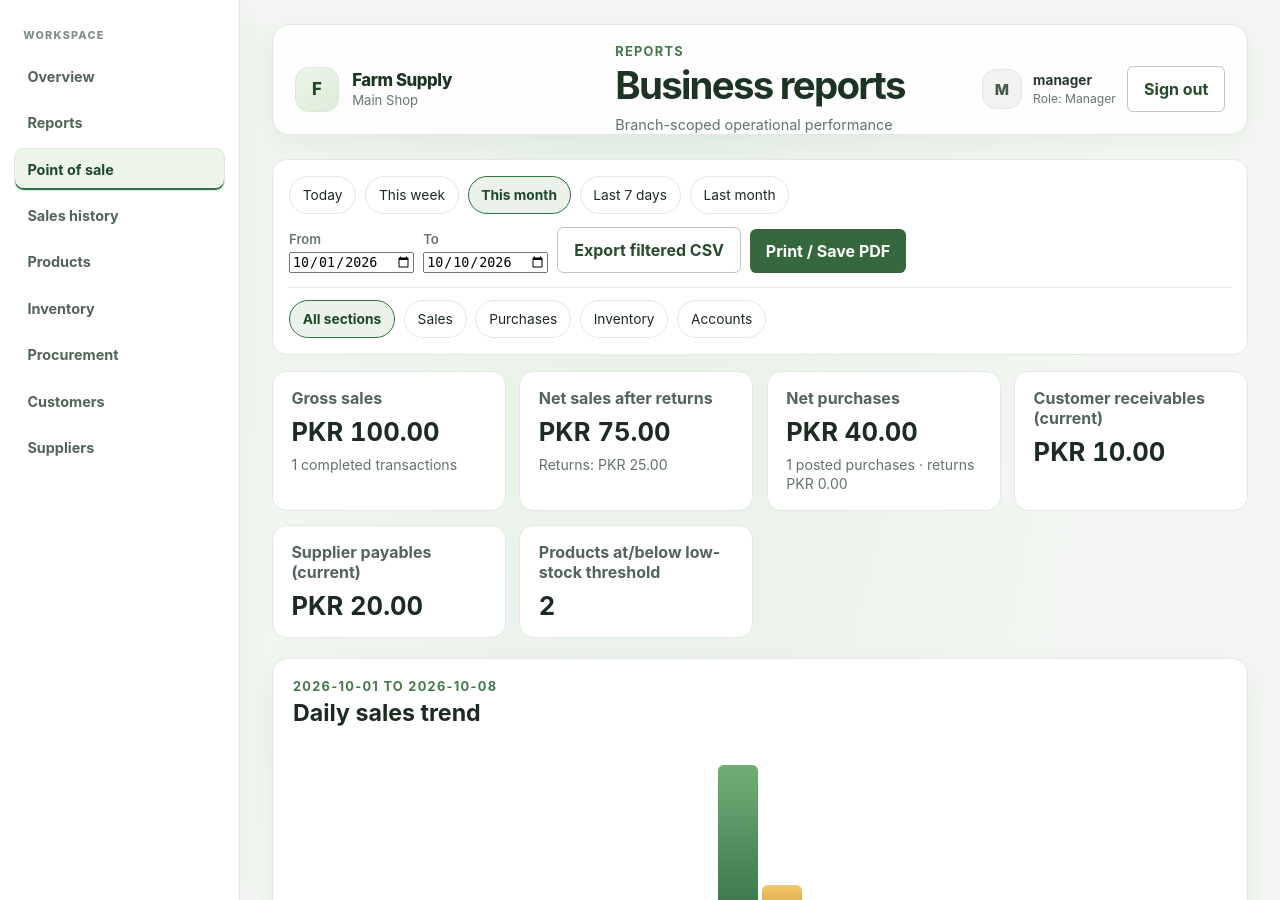
Scenario: branch operational reports › filters visible report sections without changing the selected date range
Expected: the heading "Daily sales trend" is shown, [293,699,497,727]
Click the tab "Purchases". click: [523, 319]
box: [475,300,571,338]
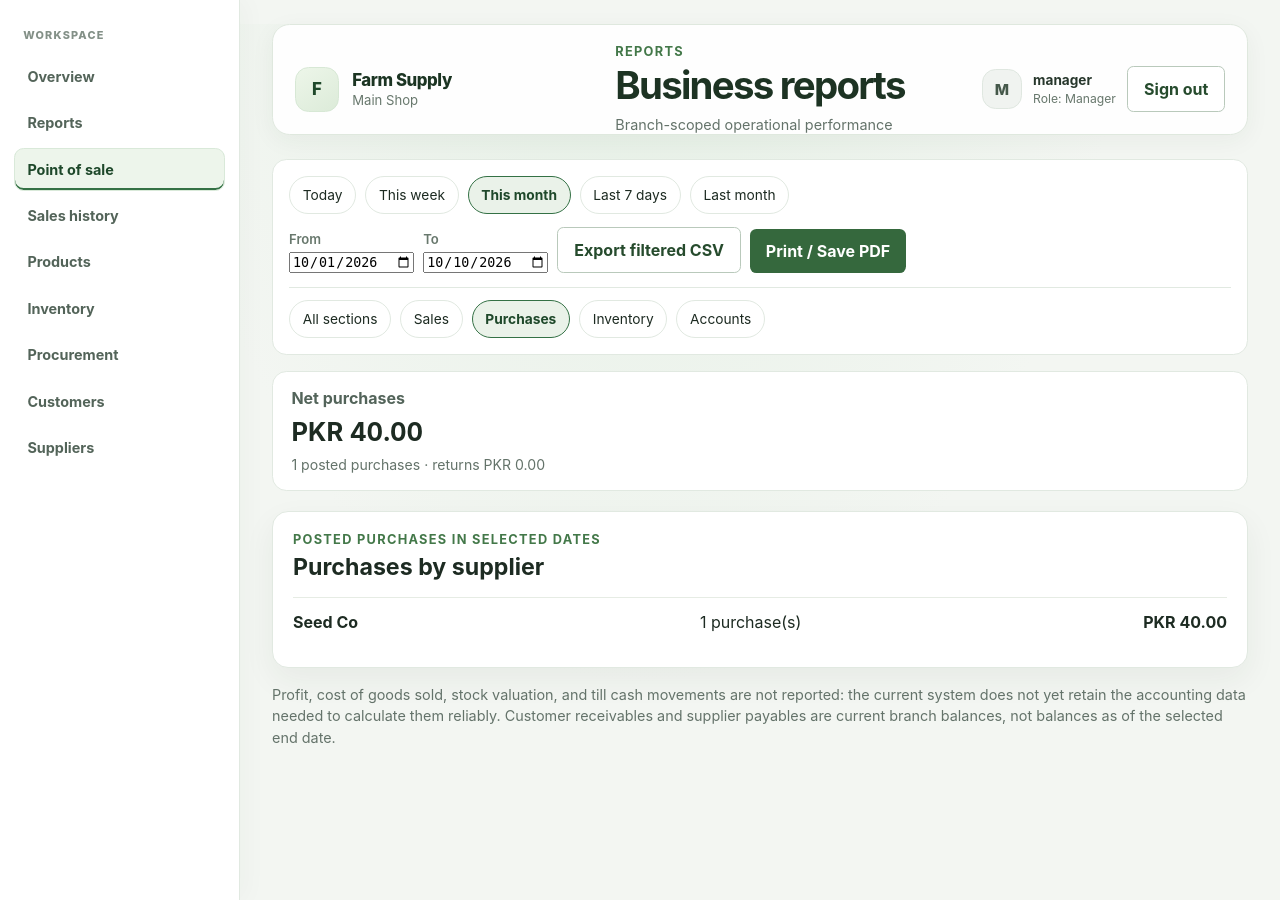
Expected: the heading "Purchases by supplier" is shown, [293,553,544,581]
Now the heading "Daily sales trend" is gone
